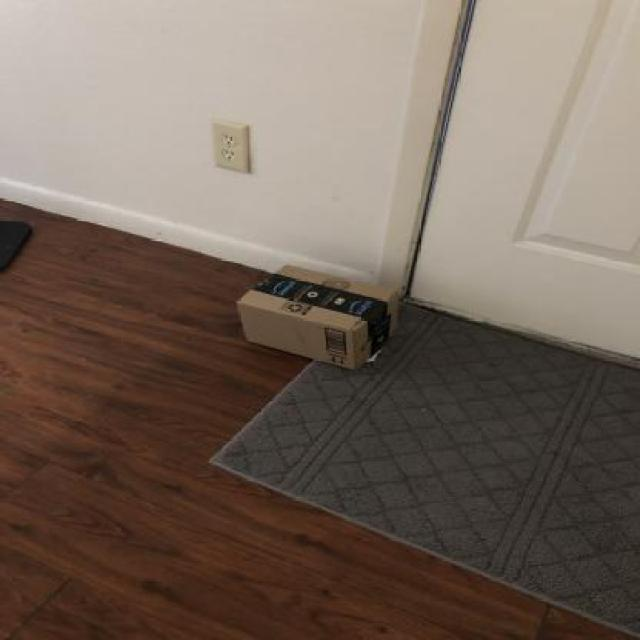cardboxes: (226, 261, 412, 376)
